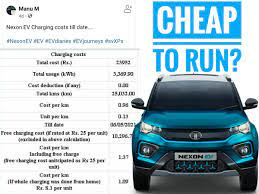Tata Nexon: (128, 70, 259, 194)
